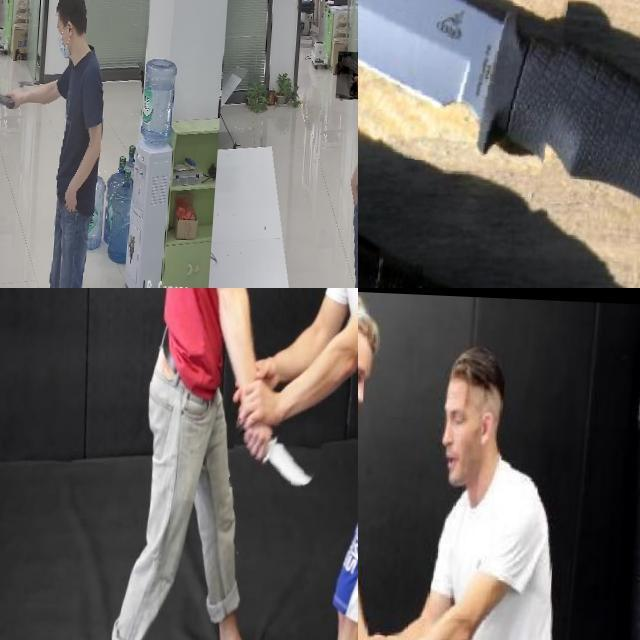-: (358, 0, 571, 166), (237, 418, 329, 493)
gun-knife-thesis - v11 Yolov5 augmented: (337, 47, 358, 94), (0, 79, 24, 107)
